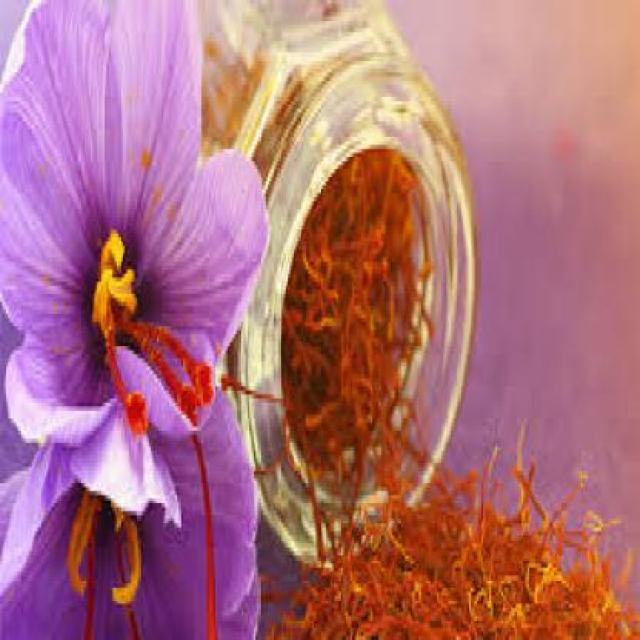Flower: (0, 0, 266, 506)
stigma: (127, 324, 205, 417), (188, 434, 222, 640), (101, 319, 155, 439), (154, 324, 218, 393), (78, 536, 100, 638)
